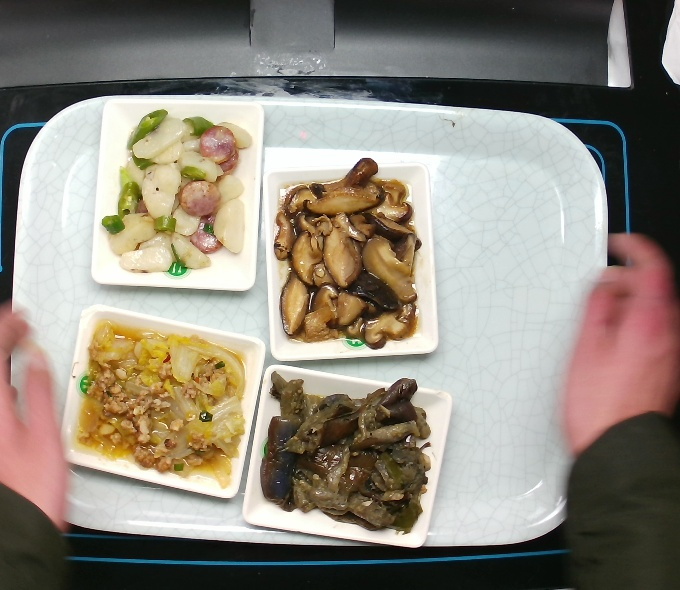wcq-MaTiGuo: (107, 103, 255, 287)
wcq-MoGu: (268, 151, 418, 352)
wcq-QieZi: (253, 368, 435, 531)
wcq-RouMoBaiCai: (79, 328, 253, 471)
